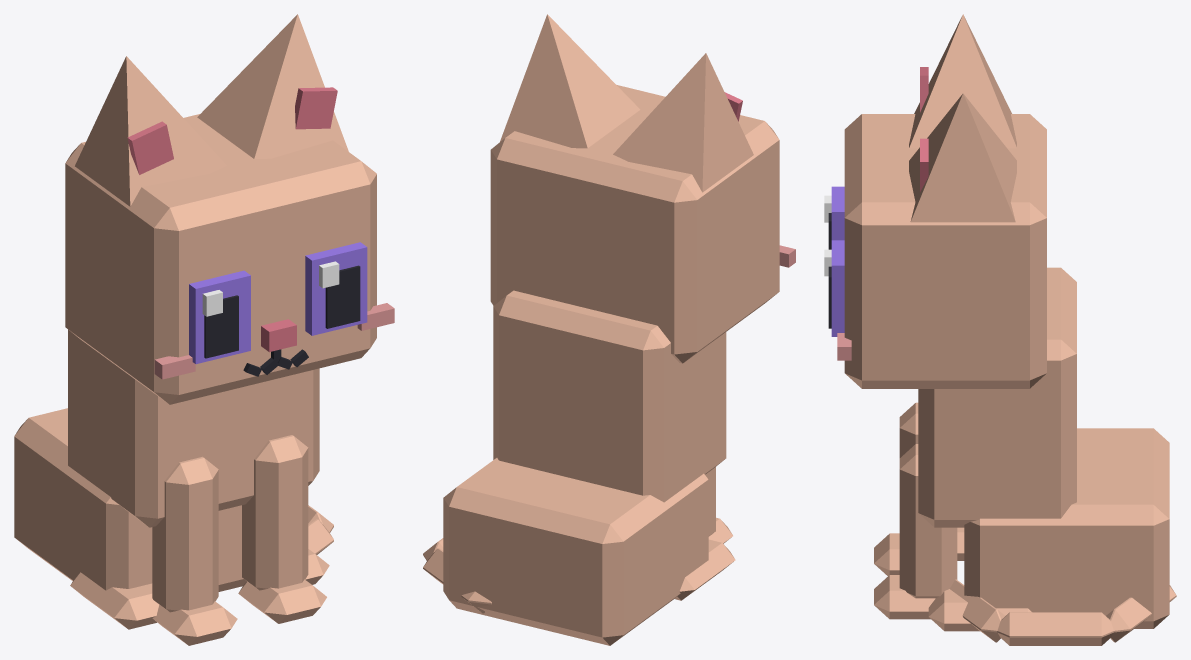
Rendered from CatCafe_Cat_Sphynx_Sit.fbx.
The picture shows the model from 3 angles, left to right: view 1: azimuth 30°, elevation 25°; view 2: azimuth 150°, elevation 25°; view 3: azimuth 270°, elevation 25°; orthographic projection. The views are drawn at different scales.
Visible parts, largest first — view 1: CatCafe_Cat_Sphynx_Sit_Head, CatCafe_Cat_Sphynx_Sit_Body, CatCafe_Cat_Sphynx_Sit_EarL, CatCafe_Cat_Sphynx_Sit_LegF1, CatCafe_Cat_Sphynx_Sit_LegF2, CatCafe_Cat_Sphynx_Sit_EarR, CatCafe_Cat_Sphynx_Sit_Eye1, CatCafe_Cat_Sphynx_Sit_Eye2, CatCafe_Cat_Sphynx_Sit_Tail; view 2: CatCafe_Cat_Sphynx_Sit_Body, CatCafe_Cat_Sphynx_Sit_Head, CatCafe_Cat_Sphynx_Sit_EarL, CatCafe_Cat_Sphynx_Sit_EarR, CatCafe_Cat_Sphynx_Sit_Tail, CatCafe_Cat_Sphynx_Sit_LegF2; view 3: CatCafe_Cat_Sphynx_Sit_Body, CatCafe_Cat_Sphynx_Sit_Head, CatCafe_Cat_Sphynx_Sit_EarL, CatCafe_Cat_Sphynx_Sit_LegF1, CatCafe_Cat_Sphynx_Sit_EarR, CatCafe_Cat_Sphynx_Sit_Tail, CatCafe_Cat_Sphynx_Sit_LegF2, CatCafe_Cat_Sphynx_Sit_Eye1, CatCafe_Cat_Sphynx_Sit_Eye2.
Boxes of the visible parts, left/top/right/bottom form: CatCafe_Cat_Sphynx_Sit_Head: left=65, top=114, right=394, bottom=404; CatCafe_Cat_Sphynx_Sit_Body: left=14, top=329, right=329, bottom=629; CatCafe_Cat_Sphynx_Sit_EarL: left=197, top=14, right=348, bottom=158; CatCafe_Cat_Sphynx_Sit_LegF1: left=238, top=435, right=326, bottom=623; CatCafe_Cat_Sphynx_Sit_LegF2: left=152, top=456, right=237, bottom=645; CatCafe_Cat_Sphynx_Sit_EarR: left=75, top=56, right=226, bottom=206; CatCafe_Cat_Sphynx_Sit_Eye1: left=305, top=242, right=367, bottom=335; CatCafe_Cat_Sphynx_Sit_Eye2: left=189, top=270, right=250, bottom=364; CatCafe_Cat_Sphynx_Sit_Tail: left=308, top=505, right=333, bottom=554; CatCafe_Cat_Sphynx_Sit_Body: left=443, top=290, right=735, bottom=645; CatCafe_Cat_Sphynx_Sit_Head: left=490, top=85, right=795, bottom=363; CatCafe_Cat_Sphynx_Sit_EarL: left=500, top=14, right=640, bottom=148; CatCafe_Cat_Sphynx_Sit_EarR: left=613, top=53, right=753, bottom=192; CatCafe_Cat_Sphynx_Sit_Tail: left=423, top=538, right=491, bottom=613; CatCafe_Cat_Sphynx_Sit_LegF2: left=705, top=467, right=732, bottom=543; CatCafe_Cat_Sphynx_Sit_Body: left=918, top=267, right=1169, bottom=631; CatCafe_Cat_Sphynx_Sit_Head: left=837, top=114, right=1046, bottom=388; CatCafe_Cat_Sphynx_Sit_EarL: left=909, top=93, right=1016, bottom=222; CatCafe_Cat_Sphynx_Sit_LegF1: left=874, top=444, right=957, bottom=619; CatCafe_Cat_Sphynx_Sit_EarR: left=909, top=14, right=1016, bottom=148; CatCafe_Cat_Sphynx_Sit_Tail: left=950, top=579, right=1176, bottom=645; CatCafe_Cat_Sphynx_Sit_LegF2: left=874, top=402, right=918, bottom=575; CatCafe_Cat_Sphynx_Sit_Eye1: left=824, top=240, right=844, bottom=336; CatCafe_Cat_Sphynx_Sit_Eye2: left=824, top=186, right=844, bottom=249.
Bounding box in the file's own units: 0.9472 × 1.95 × 1.16.
1 material, 1 textured.
